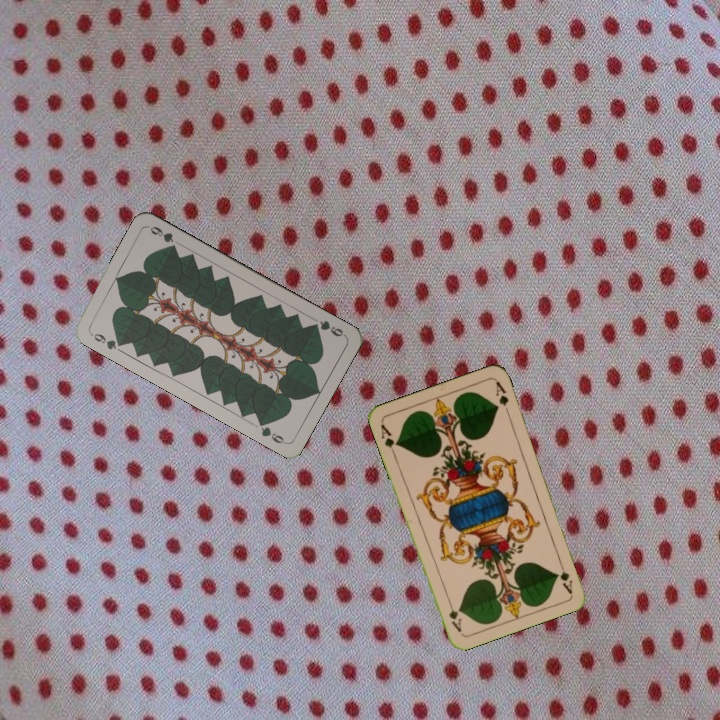G9: (307, 316, 348, 339), (86, 329, 127, 352)
GA: (376, 420, 401, 458), (554, 556, 575, 596)
